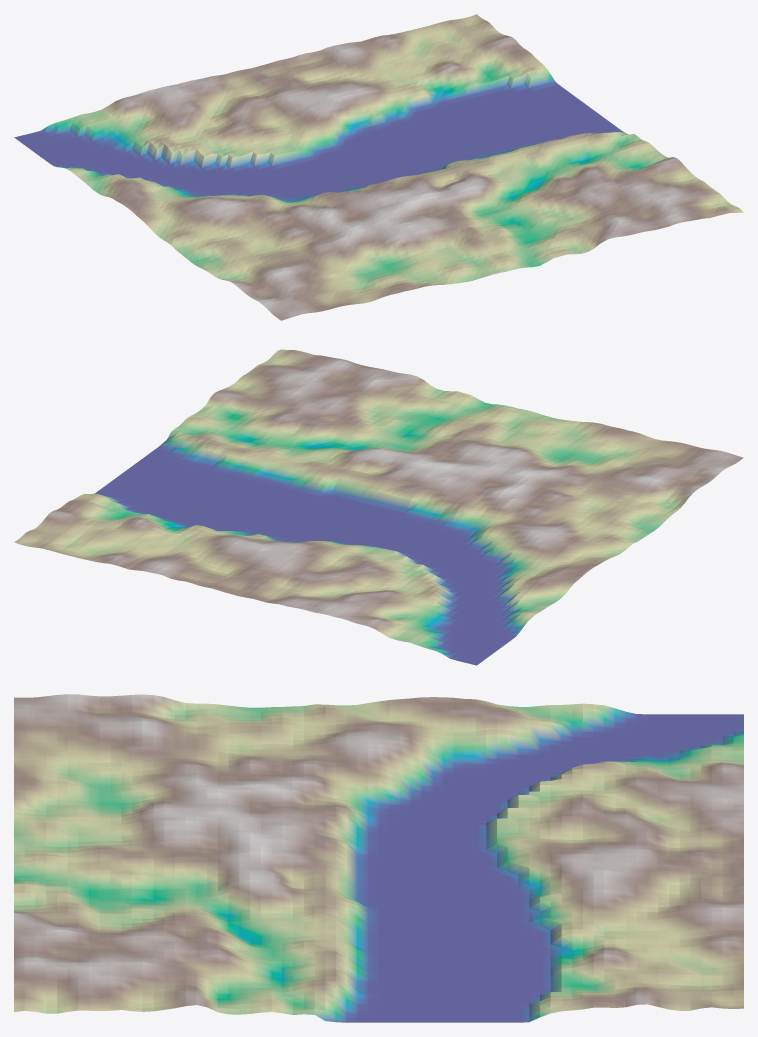
File: 004858_terrain_only.glb
3 views of the same model, one above another, from view 1: azimuth 30°, elevation 25°; view 2: azimuth 150°, elevation 25°; view 3: azimuth 270°, elevation 25° (orthographic). The views are drawn at different scales.
Parts seen in each view (by area): view 1: terrain; view 2: terrain; view 3: terrain.
Part boxes in pixels (x1,y1,x2,y2): terrain: (14,14,743,320); terrain: (14,349,743,665); terrain: (14,694,743,1022).
Size of the model in its own units: 0.0183 by 0.000593 by 0.0183.
